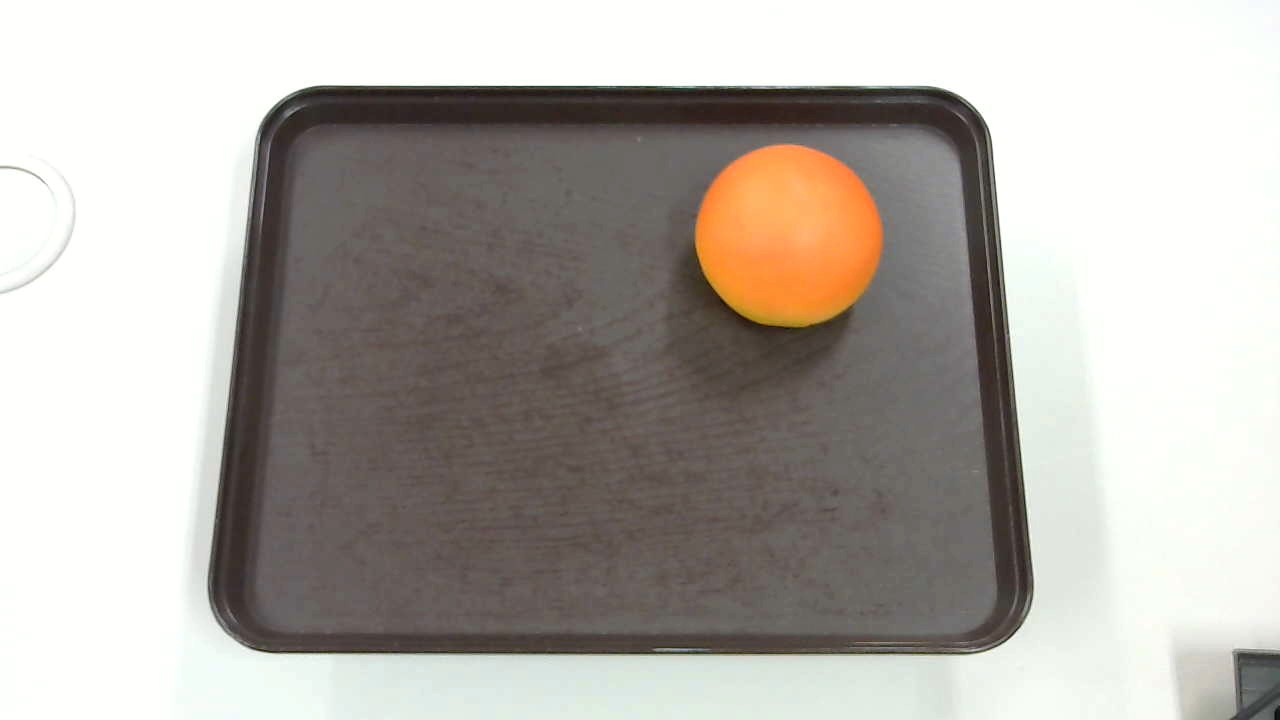bun: (695, 141, 884, 329)
